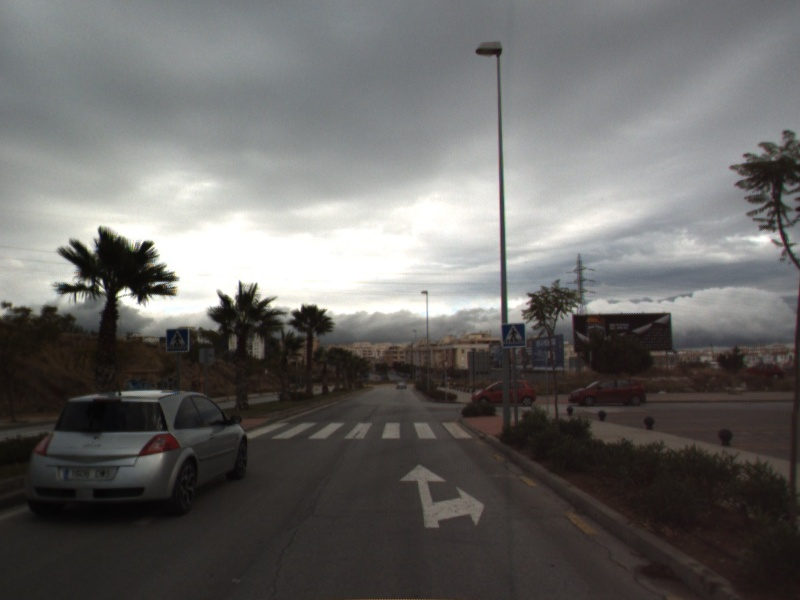STRAIGHT_RIGHT: (397, 462, 486, 530)
